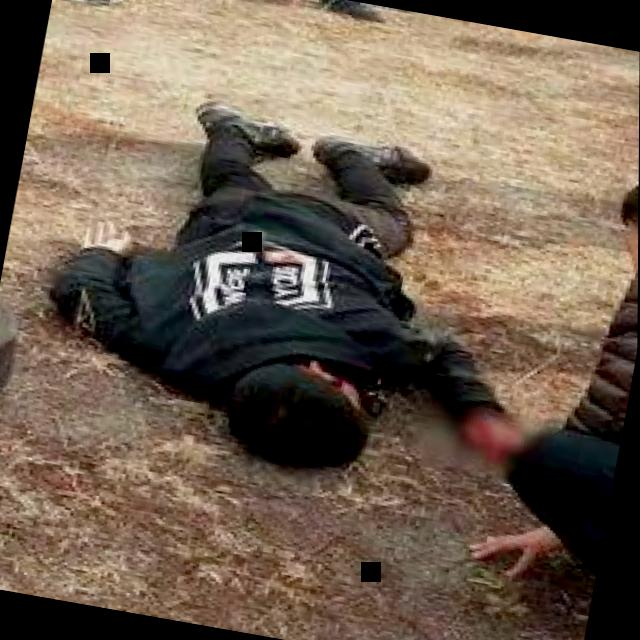Fall-Detected: (7, 60, 594, 509)
